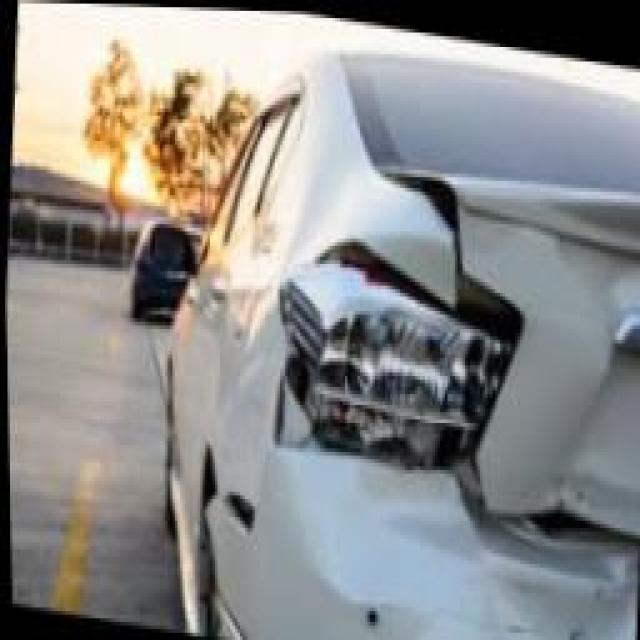replaceable: (284, 254, 506, 476), (544, 428, 636, 620)
